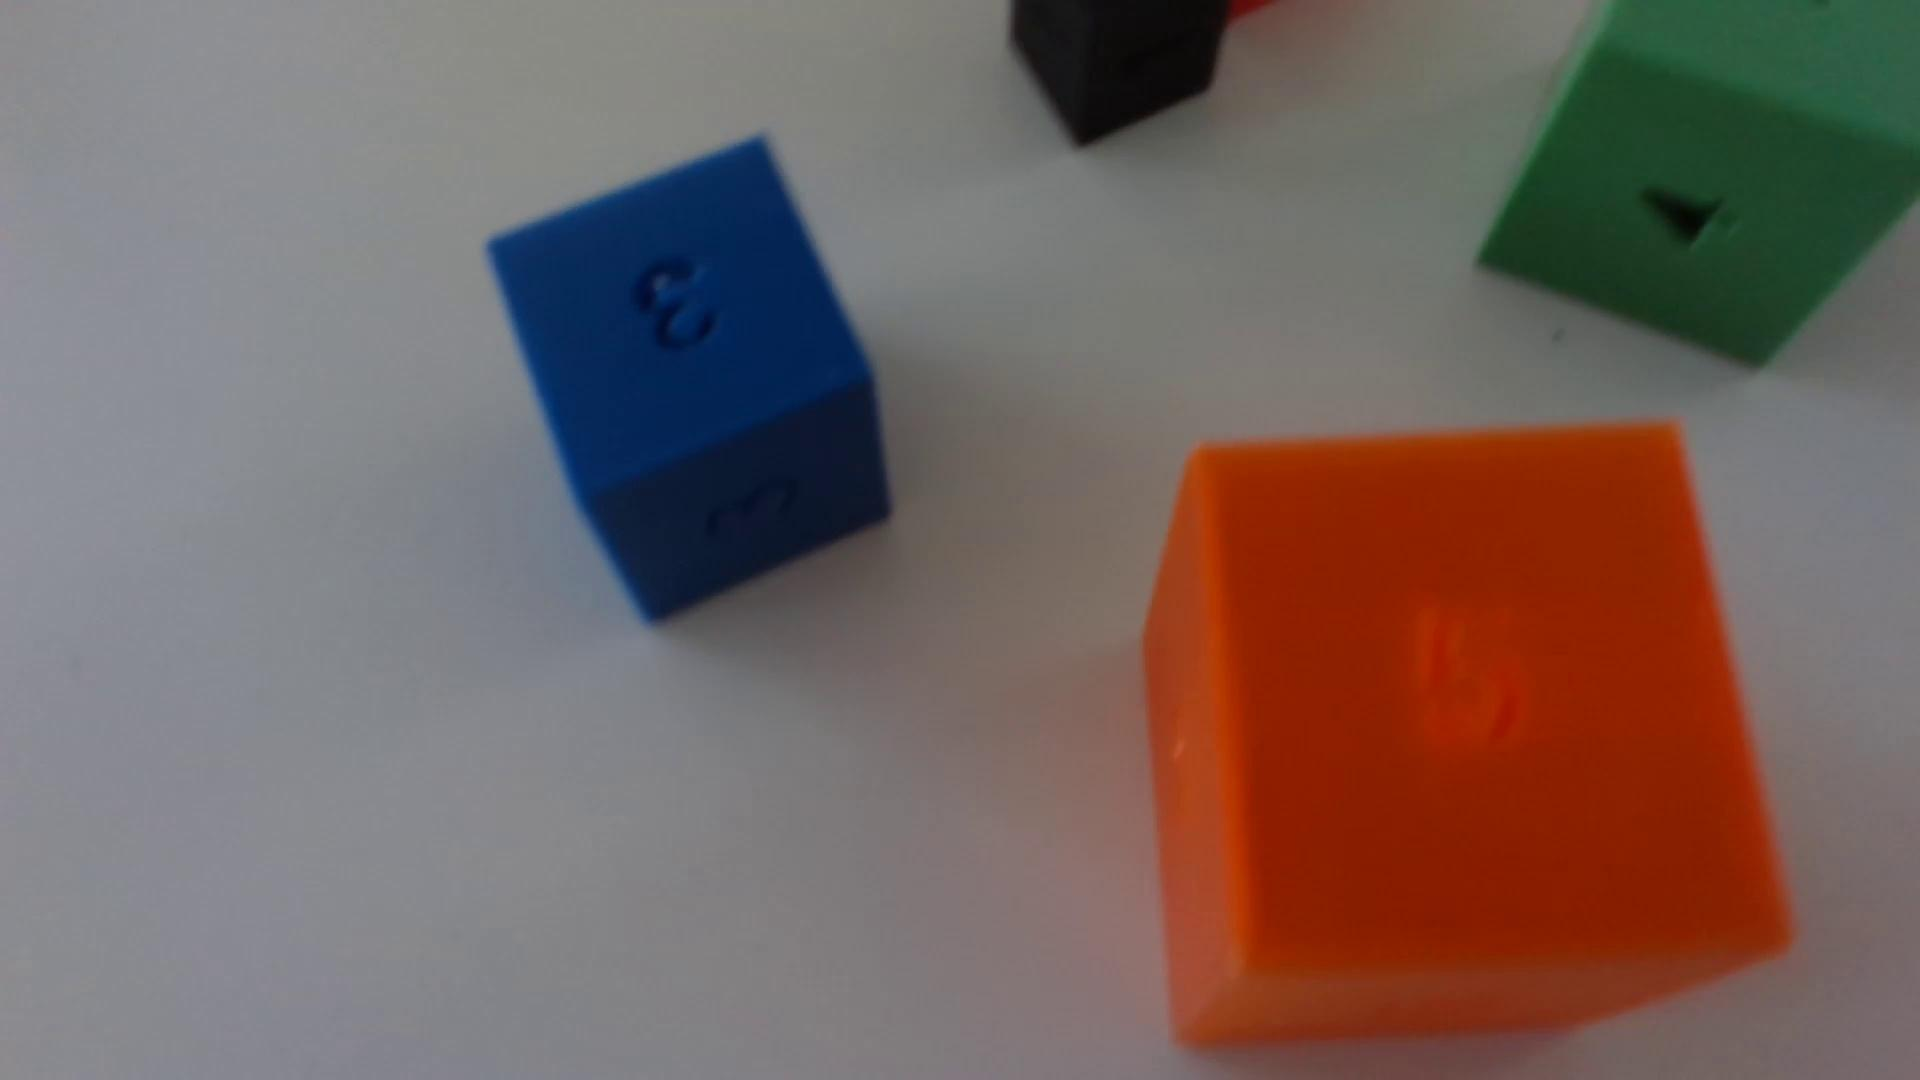black: (1007, 0, 1232, 148)
blue: (488, 140, 891, 622)
green: (1480, 0, 1920, 367)
orange: (1143, 425, 1791, 1047)
red: (1229, 0, 1274, 21)
